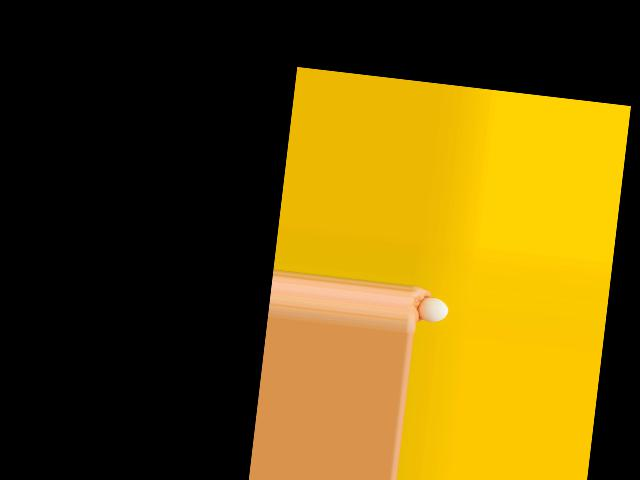egg: (416, 296, 449, 322)
